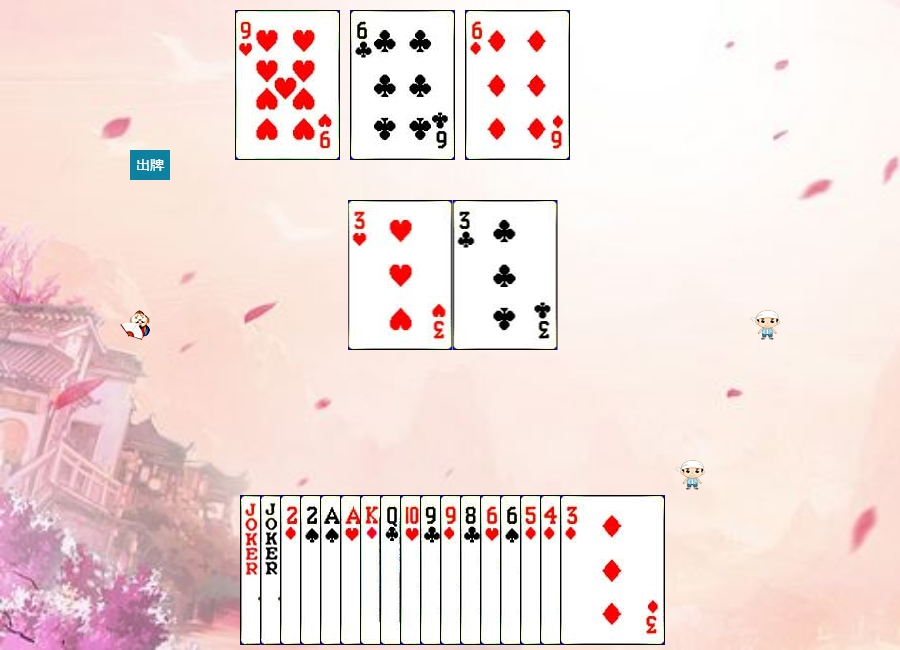10~3: (400, 495, 505, 645)
12~2: (380, 495, 485, 645)
13~1: (360, 495, 465, 645)
14~3: (340, 495, 445, 645)
14~4: (320, 495, 425, 645)
15~1: (280, 495, 385, 645)
15~4: (300, 495, 405, 645)
17~3: (260, 495, 365, 645)
18~4: (240, 495, 345, 645)
3~1: (560, 495, 665, 645)
3~2: (453, 200, 558, 350)
3~3: (348, 200, 453, 350)
4~1: (540, 495, 645, 645)
5~1: (520, 495, 625, 645)
6~1: (465, 10, 570, 160)
6~2: (350, 10, 455, 160)
6~3: (480, 495, 585, 645)
6~4: (500, 495, 605, 645)
8~2: (460, 495, 565, 645)
9~1: (440, 495, 545, 645)
9~2: (420, 495, 525, 645)
9~3: (235, 10, 340, 160)
